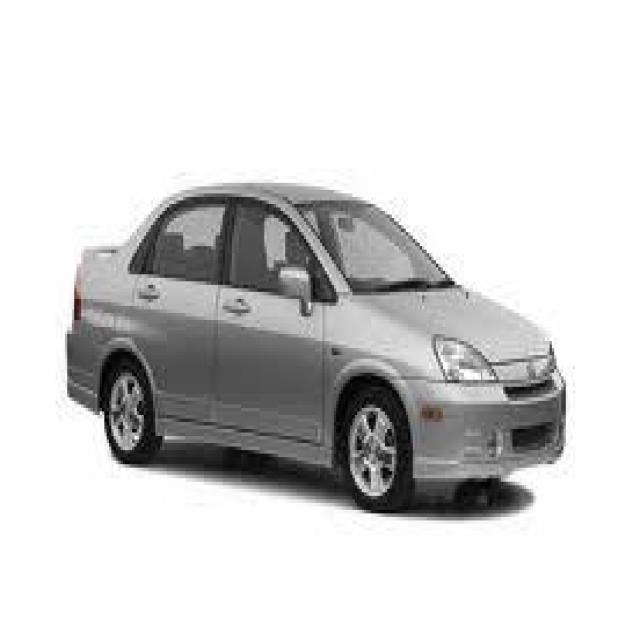car: (61, 176, 570, 513)
